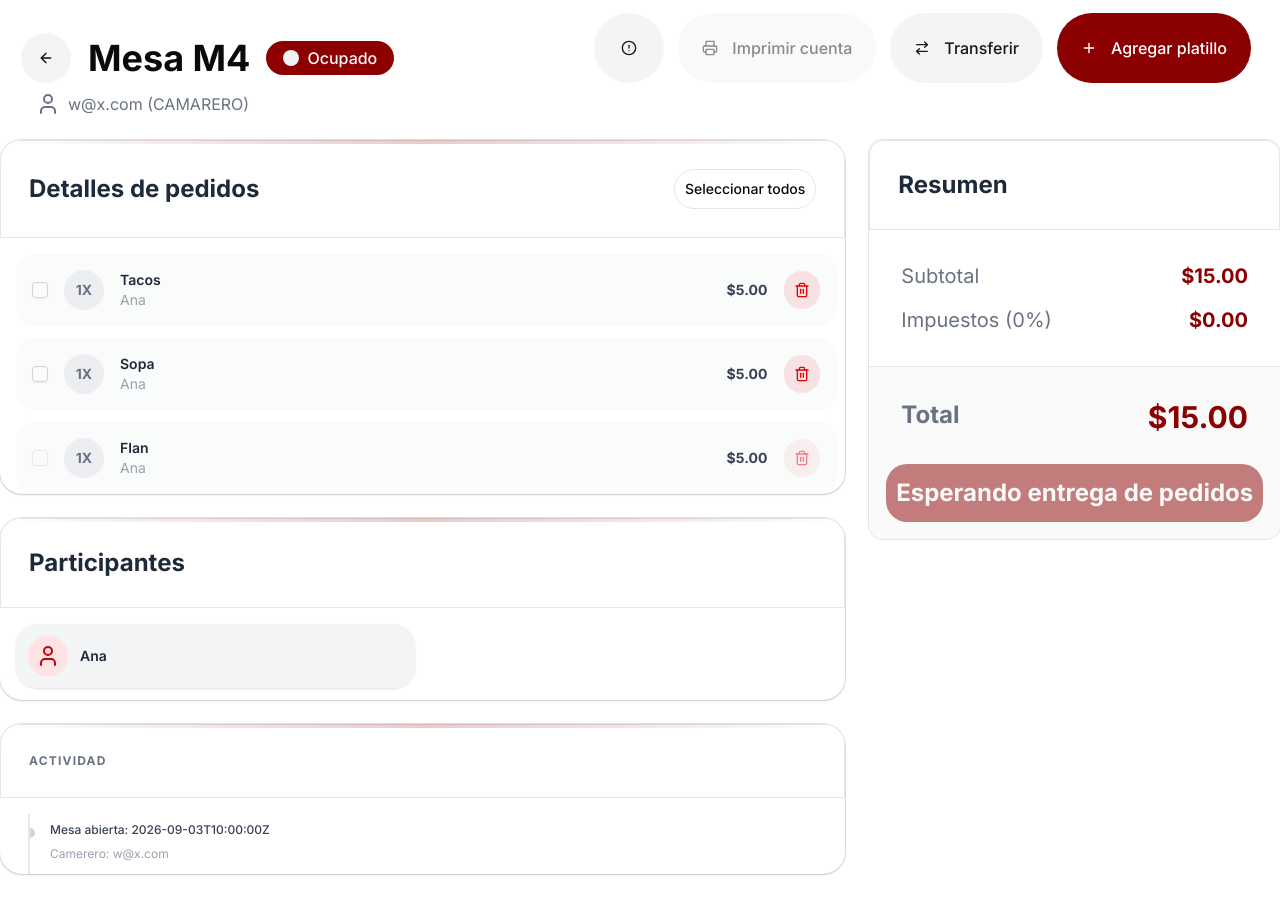
Test: TableInformation — select all + bulk delete › the same button deselects everything again
The width and height of the screenshot is (1280, 912).
Step 1. Click the button "Seleccionar todos" → click(745, 189), box [674,169,816,209]
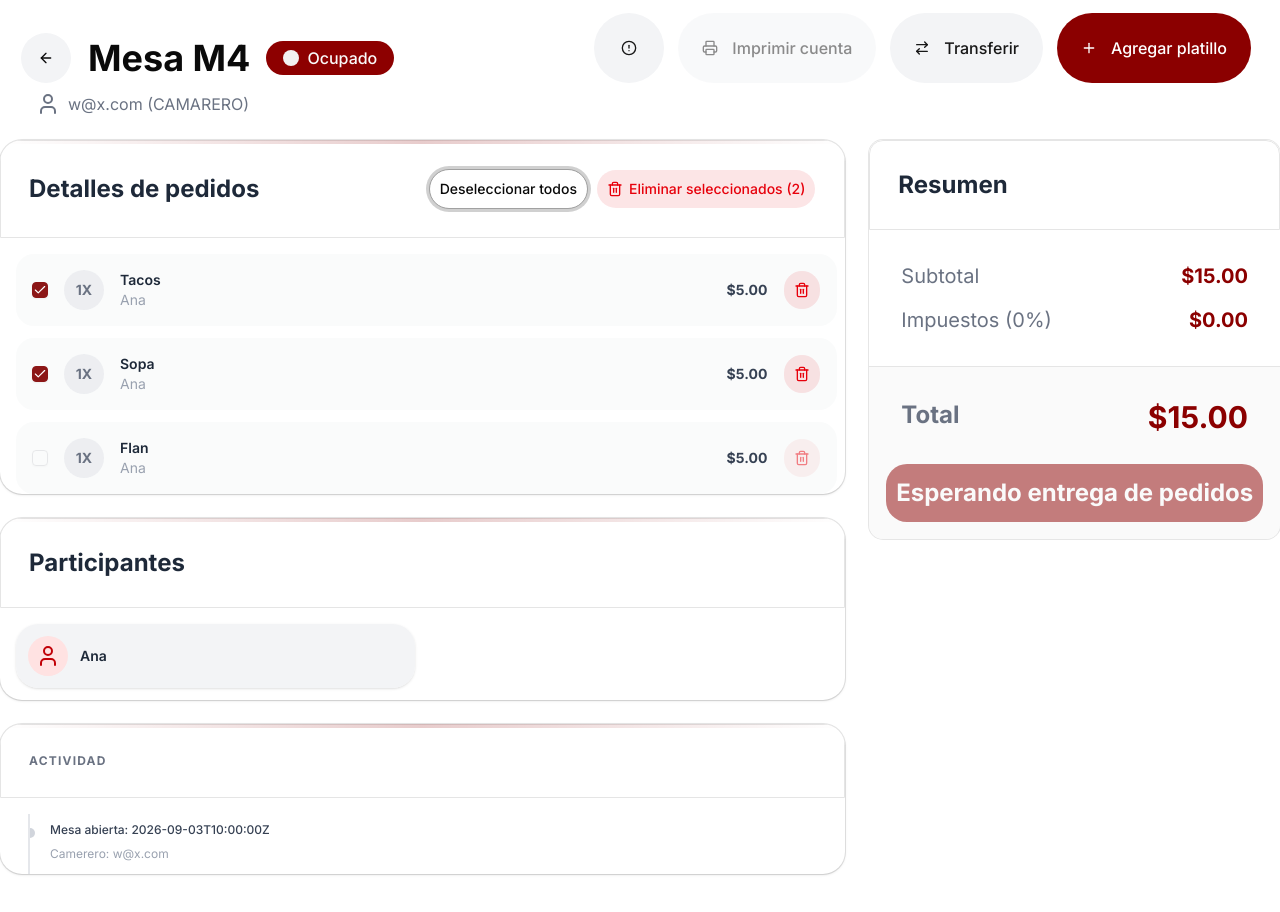
Step 2. Click the button "Deseleccionar todos" → click(508, 189), box [429,169,588,209]
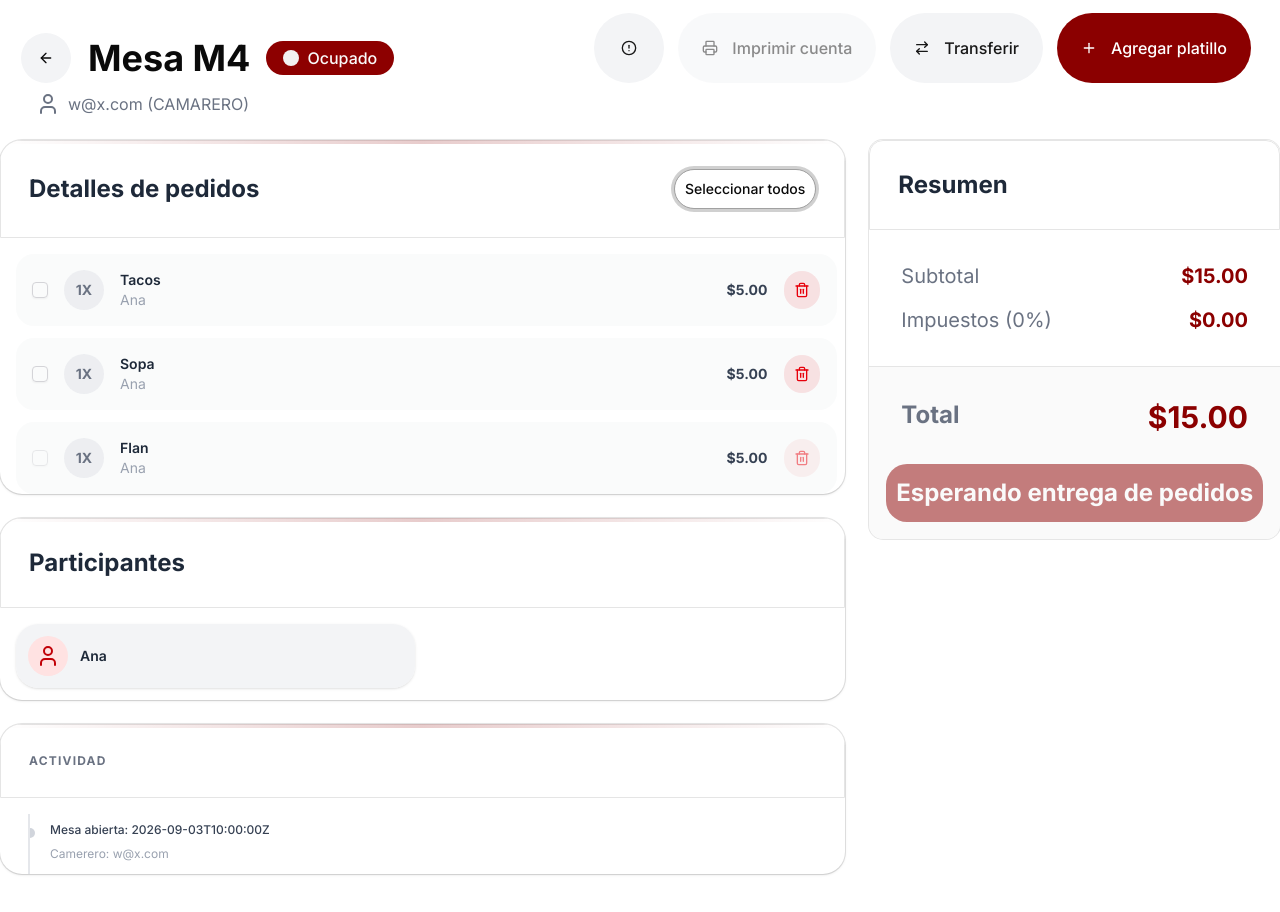
Now the checkbox named "Seleccionar Tacos" is not checked, box [32,282,48,298]
Now the button "Eliminar seleccionados" is gone
